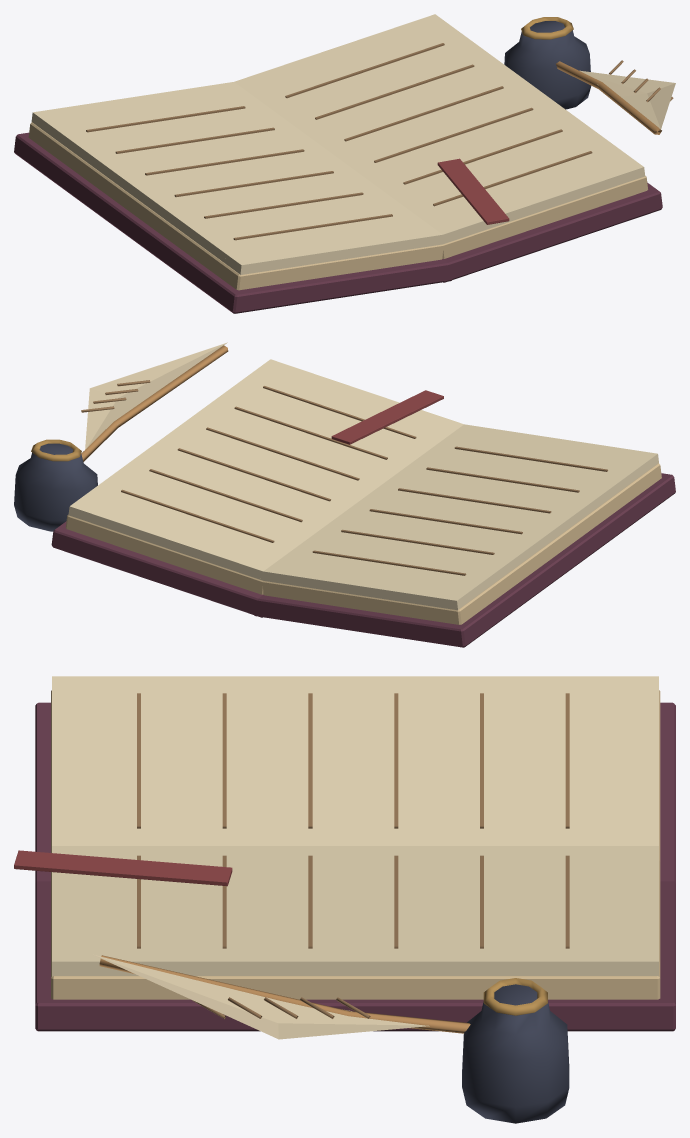
Rendered from ledger_book.glb.
3 renders of one model, top to bottom at view 1: azimuth 30°, elevation 25°; view 2: azimuth 150°, elevation 25°; view 3: azimuth 270°, elevation 25°, orthographic. The views are drawn at different scales.
Parts seen in each view (by area): view 1: ledger_book; view 2: ledger_book; view 3: ledger_book.
Part boxes in pixels (x1,y1,x2,y2): ledger_book: (14,14,675,313); ledger_book: (14,342,675,647); ledger_book: (14,676,675,1123).
Bounding box in the file's own units: 0.4 × 0.06 × 0.3.
